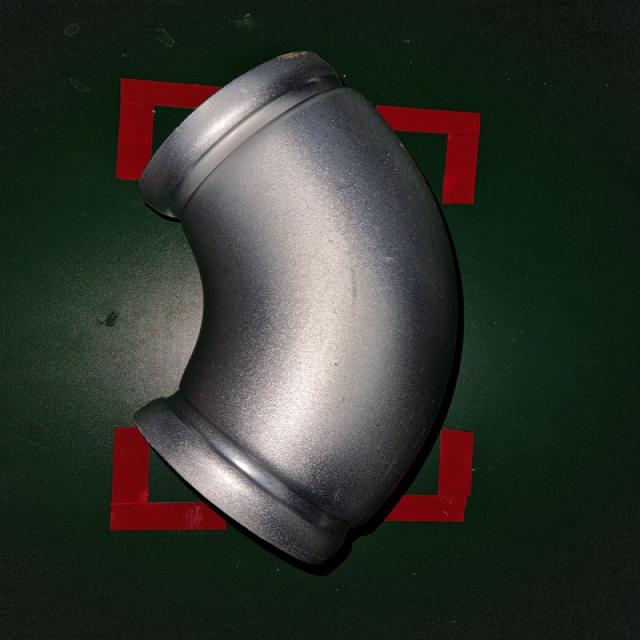Normal: (127, 46, 473, 584)
